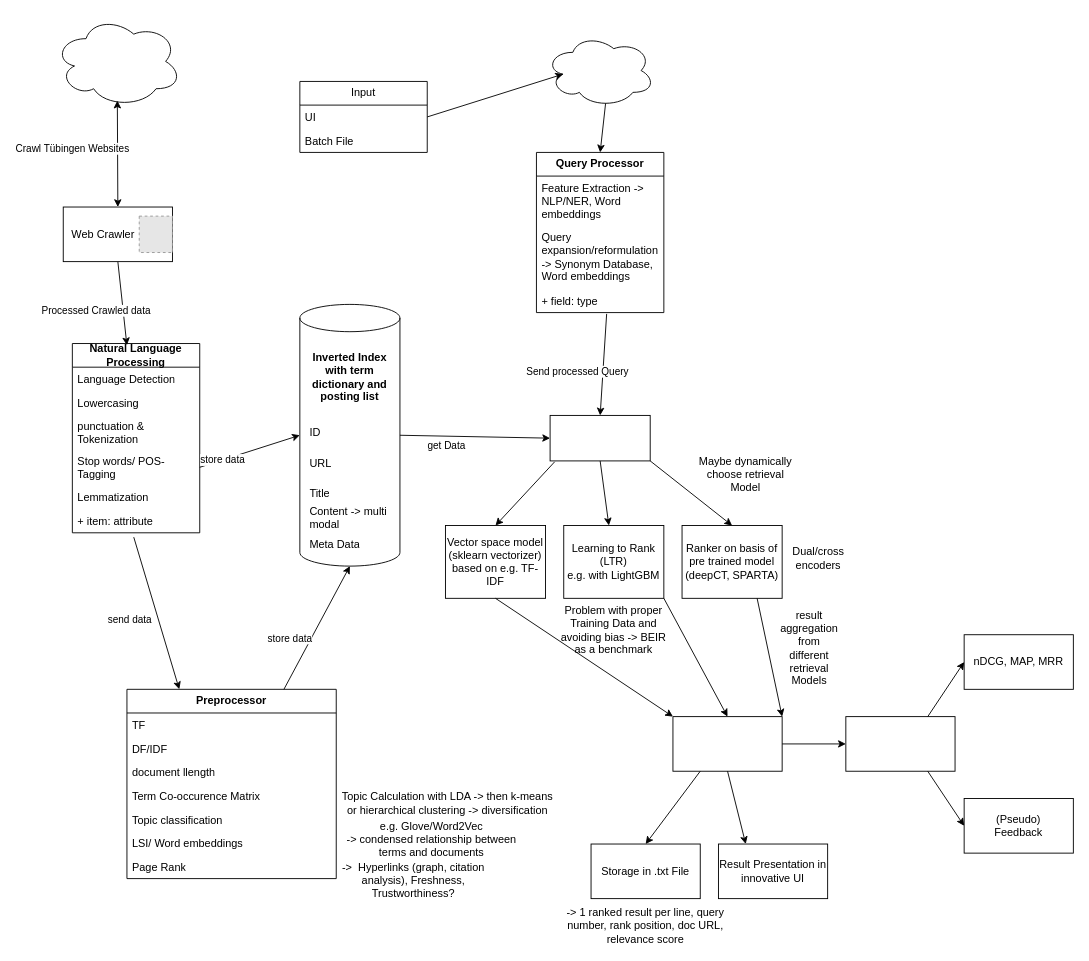
Some shapes in this 1089 by 961 pixel diagram are drawn without their labels. Grey dashed boxes stand in for pictures. The shapes that lost their labels are listed below. From the top down, each one's centre as x and y in pixels, then its label:
At point (117, 61): "Internet".
At point (600, 70): "incoming Query".
At point (599, 438): "Ranking".
At point (727, 743): "Results: Top ranked Documents for Query".
At point (900, 743): "Evaluaion".
